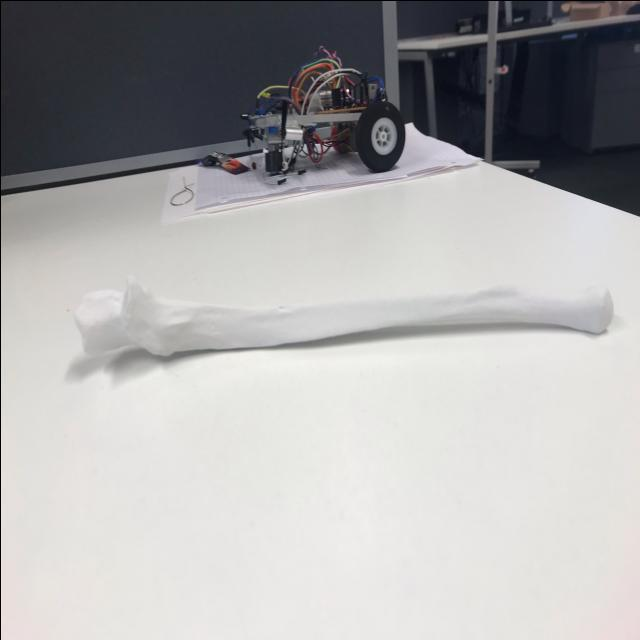bone: (63, 273, 620, 375)
